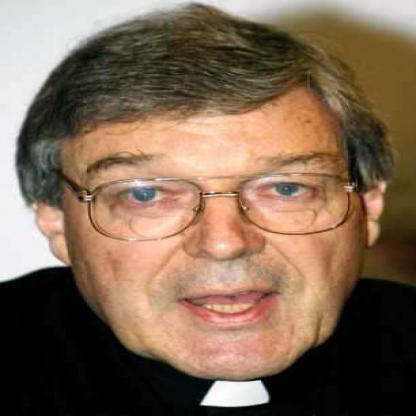face: (60, 22, 373, 386)
